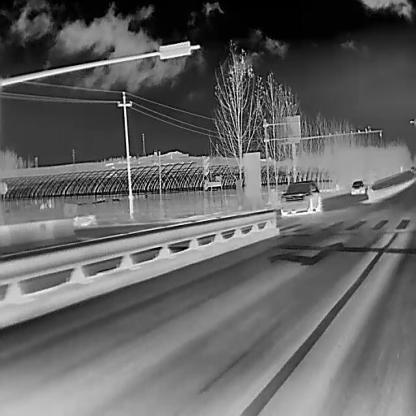car: (280, 180, 322, 216), (350, 180, 365, 194), (410, 165, 414, 171)
